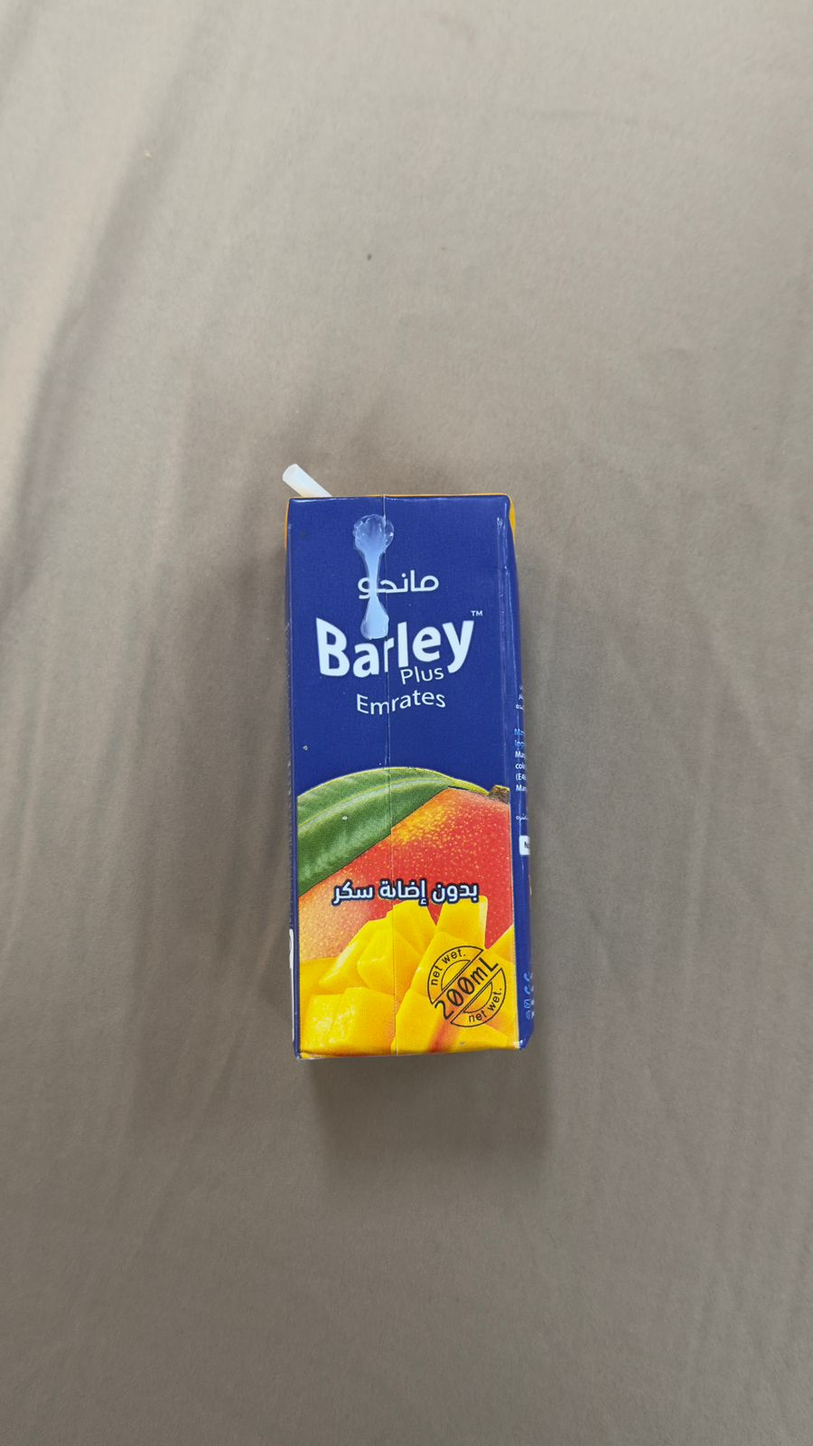paper: (81, 300, 732, 1446)
